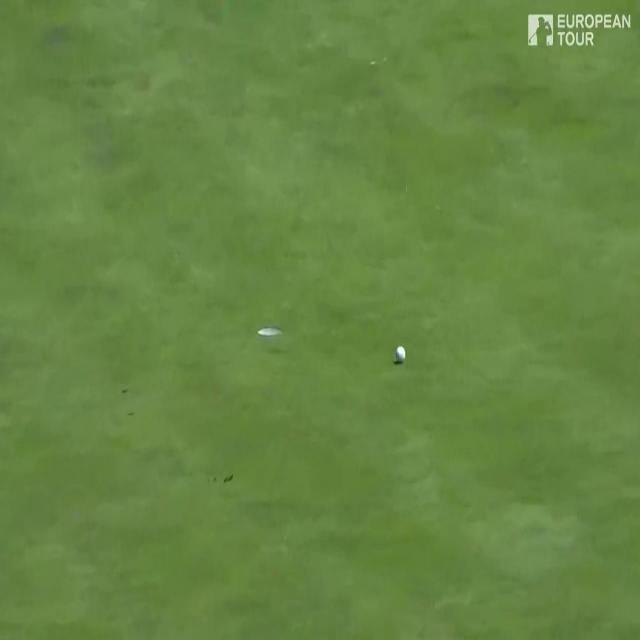GolfBall: (387, 334, 416, 377)
